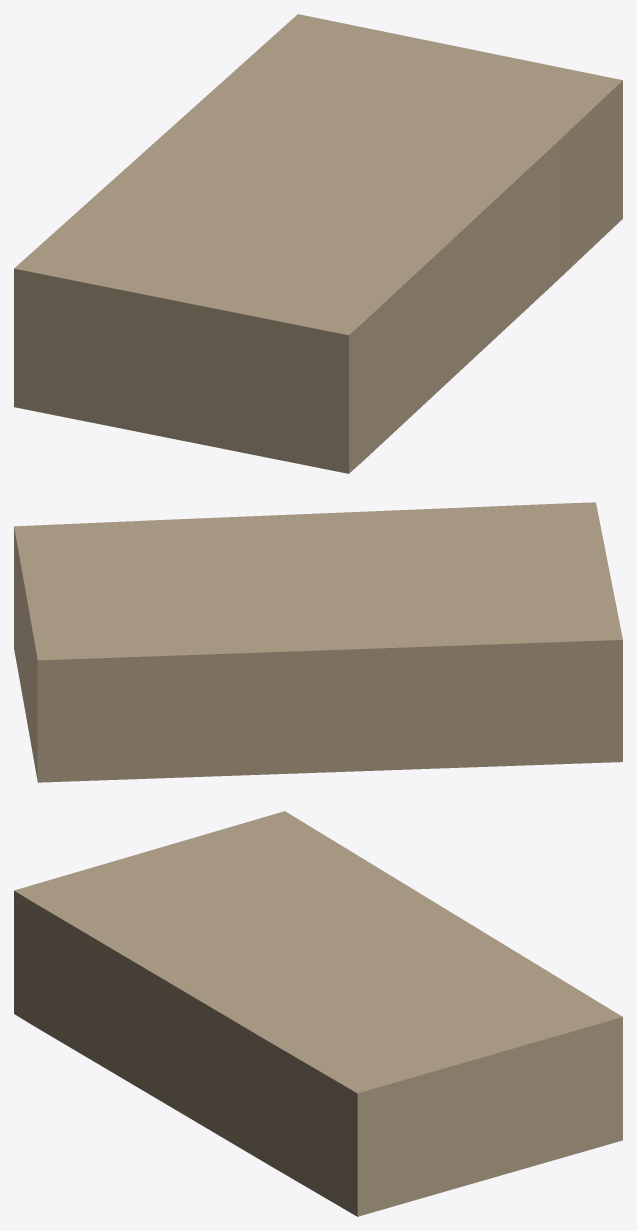
File: bld_940536851.dae
3 views of the same model, one above another, from view 1: azimuth 30°, elevation 25°; view 2: azimuth 150°, elevation 25°; view 3: azimuth 270°, elevation 25° (orthographic). The views are drawn at different scales.
Visible parts, largest first — view 1: Transformer Manufacturing Co Ltd; view 2: Transformer Manufacturing Co Ltd; view 3: Transformer Manufacturing Co Ltd.
Part boxes in pixels (left/top/right/bottom): Transformer Manufacturing Co Ltd: left=14, top=14, right=622, bottom=473; Transformer Manufacturing Co Ltd: left=14, top=502, right=622, bottom=782; Transformer Manufacturing Co Ltd: left=14, top=811, right=622, bottom=1216.
Bounding box in the file's own units: 39.26 × 35.78 × 8.
